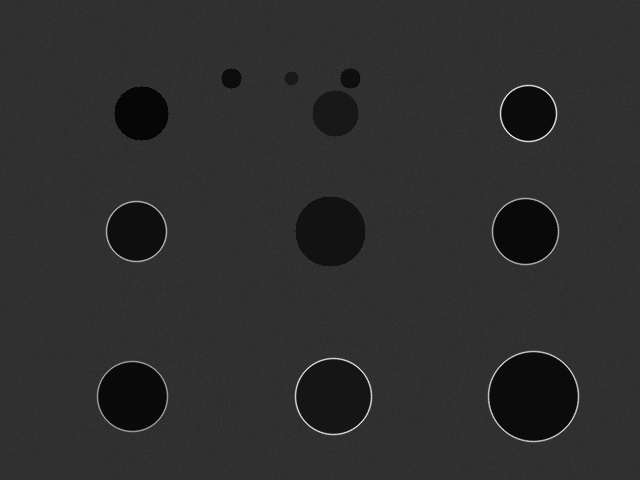hole: (488, 351, 578, 441), (295, 358, 371, 434), (295, 196, 365, 266), (97, 361, 167, 431), (492, 198, 558, 264), (106, 201, 166, 261), (500, 85, 556, 141), (114, 86, 168, 140), (312, 90, 358, 136), (221, 68, 241, 88), (340, 68, 360, 88), (284, 71, 298, 85)
